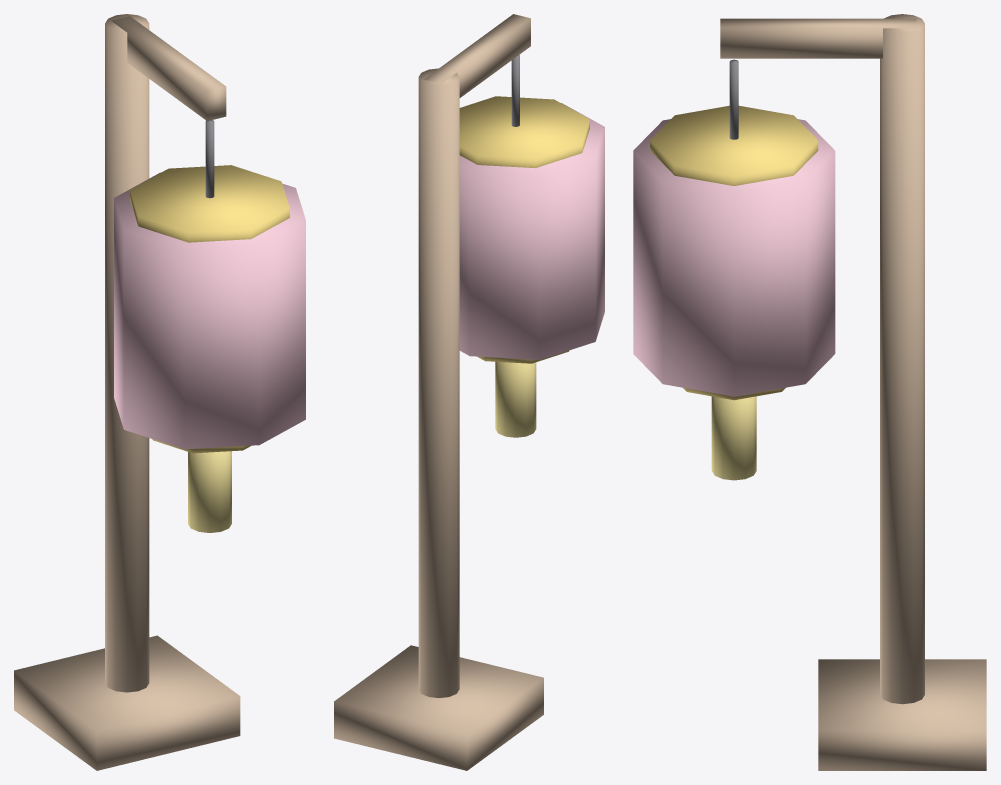
Rendered from lantern.glb.
3 renders of one model, left to right at view 1: azimuth 30°, elevation 25°; view 2: azimuth 150°, elevation 25°; view 3: azimuth 270°, elevation 25°, orthographic. The views are drawn at different scales.
Parts seen in each view (by area): view 1: lan_body, stand_v, stand_base, lan_cap_top, stand_h, lan_tassel, thread; view 2: lan_body, stand_v, stand_base, lan_cap_top, stand_h, lan_tassel, thread; view 3: lan_body, stand_v, stand_base, lan_cap_top, stand_h, lan_tassel, thread.
Boxes of the visible parts, x1,y1,x2,y2 form: lan_body: (114,172,305,449); stand_v: (105,14,149,692); stand_base: (14,635,240,770); lan_cap_top: (130,165,289,242); stand_h: (111,16,226,121); lan_tassel: (188,451,231,532); thread: (205,120,214,198); lan_body: (459,103,604,359); stand_v: (418,68,459,697); stand_base: (334,645,543,770); lan_cap_top: (459,96,589,168); stand_h: (424,14,530,97); lan_tassel: (495,361,536,437); thread: (511,55,519,126); lan_body: (633,119,835,396); stand_v: (880,14,924,704); stand_base: (818,659,986,770); lan_cap_top: (650,105,818,185); stand_h: (720,18,916,58); lan_tassel: (711,396,756,480); thread: (729,59,738,139).
Bounding box in the file's own units: 0.36 × 1.4 × 0.63.
